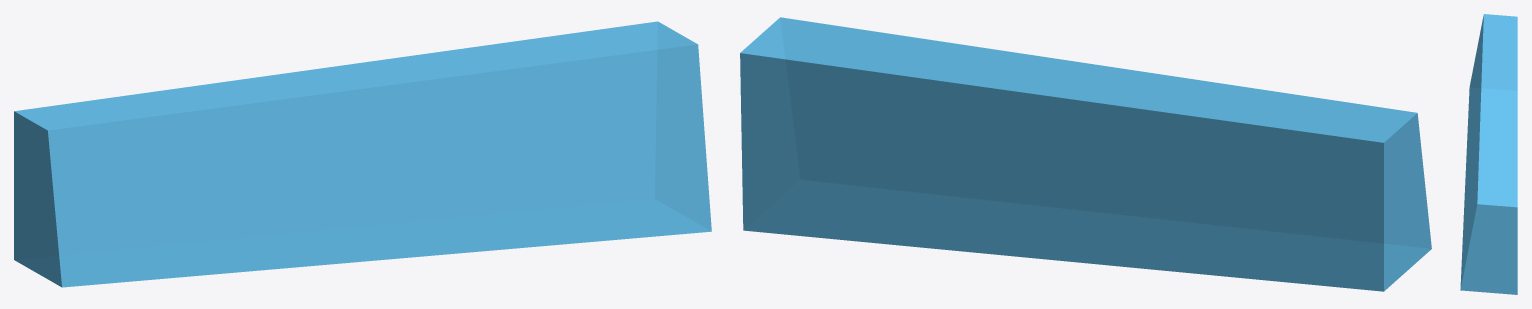
The model's file is Event_421115418_HErechit_129.fbx.
The picture shows the model from 3 angles, left to right: view 1: azimuth 30°, elevation 25°; view 2: azimuth 150°, elevation 25°; view 3: azimuth 270°, elevation 25°; orthographic projection. The views are drawn at different scales.
Visible parts, largest first — view 1: Model; view 2: Model; view 3: Model.
Part boxes in pixels (box(x1,y1,x2,y2)): Model: box(14, 21, 711, 287); Model: box(740, 17, 1431, 291); Model: box(1460, 14, 1517, 294).
Bounding box in the file's own units: 2.12 × 0.7833 × 0.3251.
